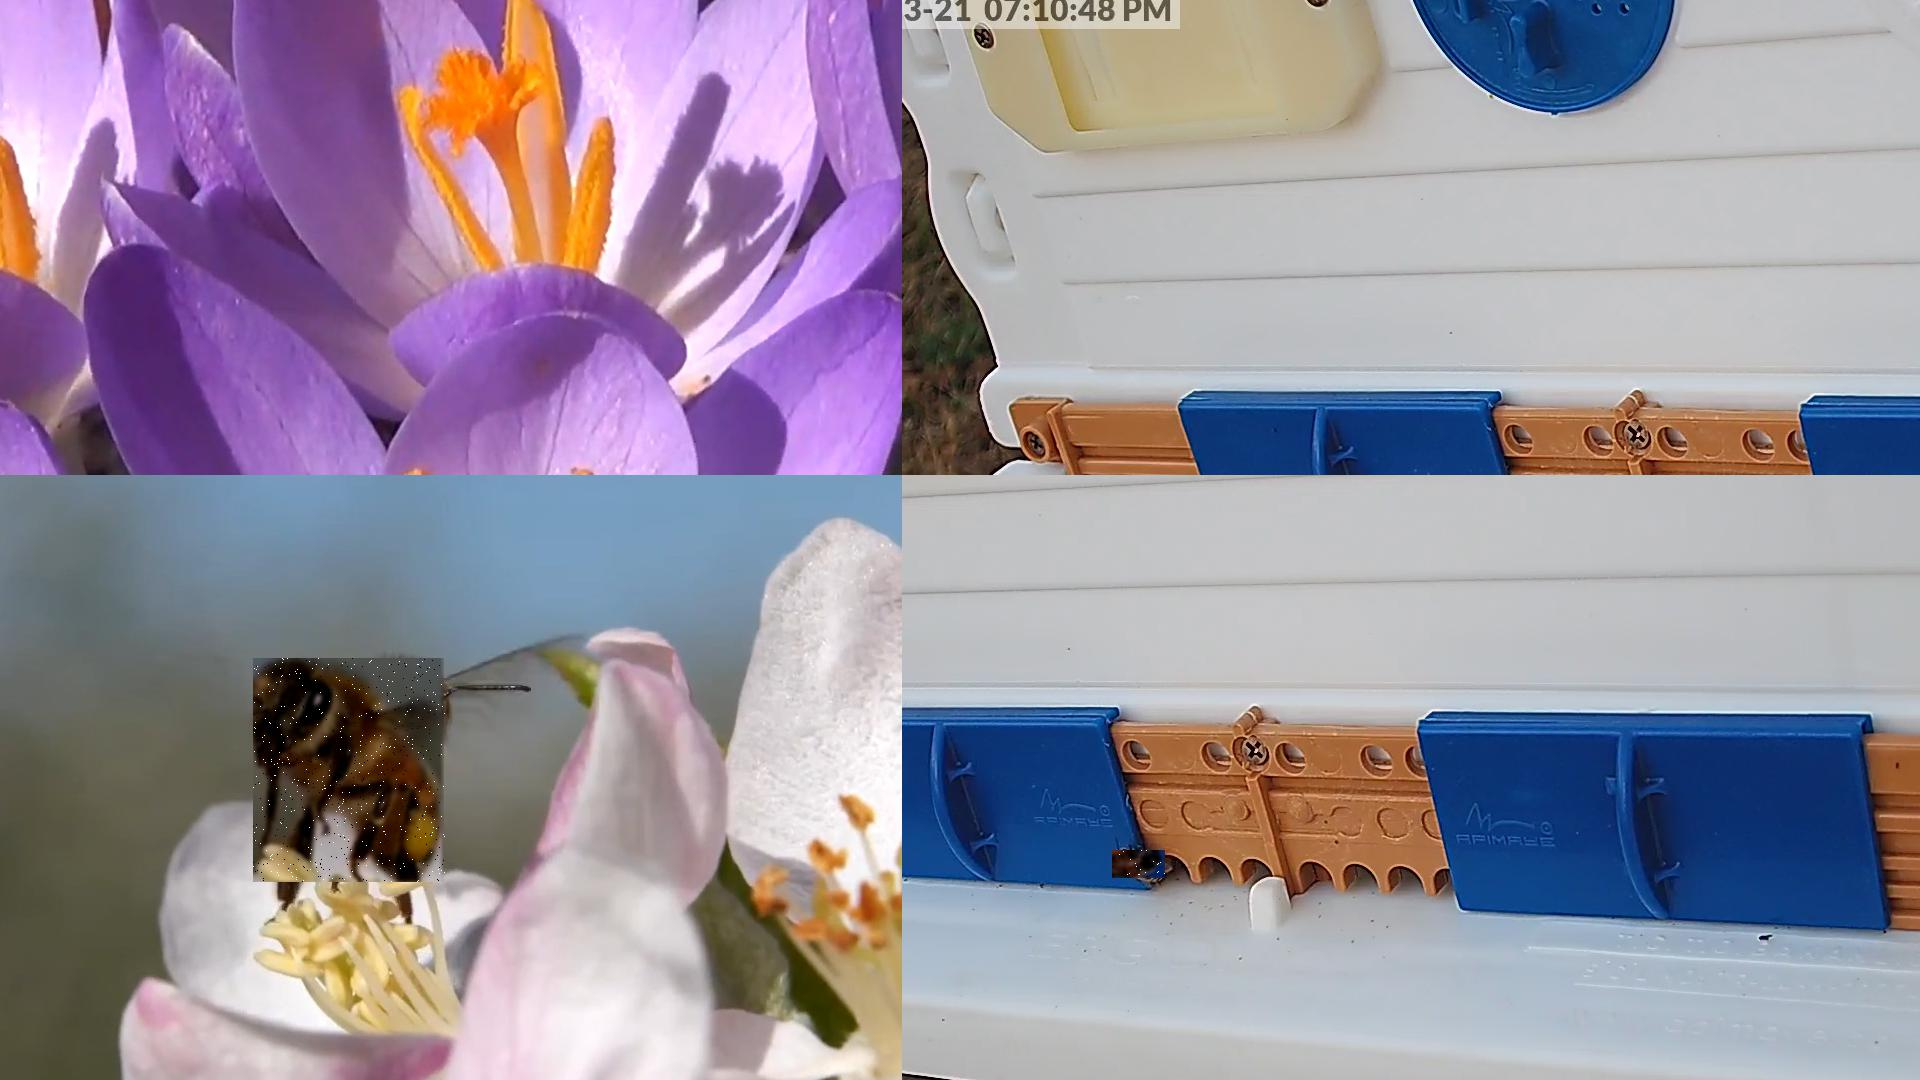bee: (1112, 851, 1166, 880)
pollenbee: (255, 658, 447, 884)
